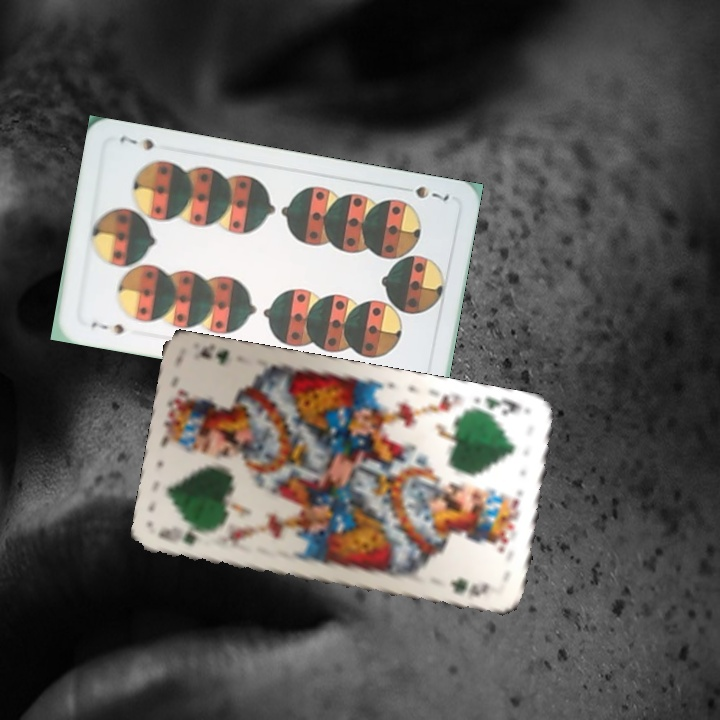GK: (472, 392, 524, 420), (155, 525, 200, 548)
S7: (411, 182, 452, 204), (87, 317, 127, 337)
